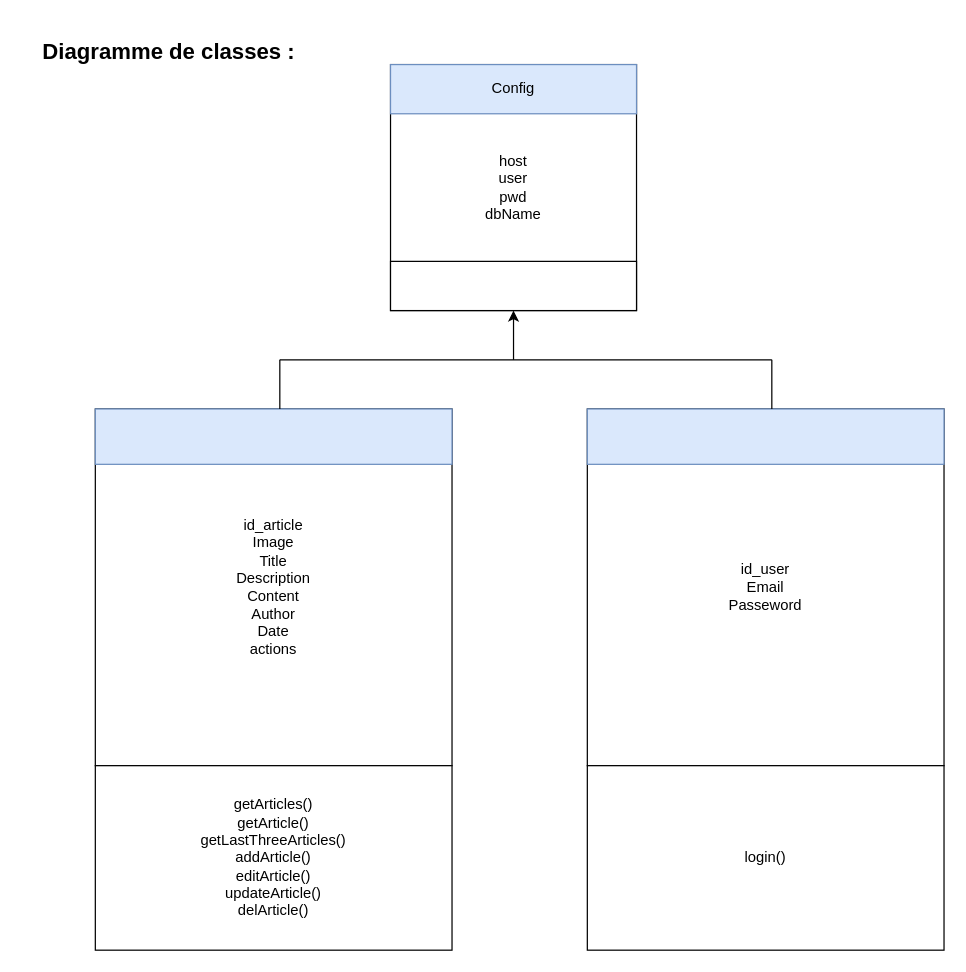
This 966x972 diagram has some shape labels left out. The centre of each missing label's shape, as x and y in pixels:
Article: (273,436)
connect(): (513,285)
User: (765,436)
